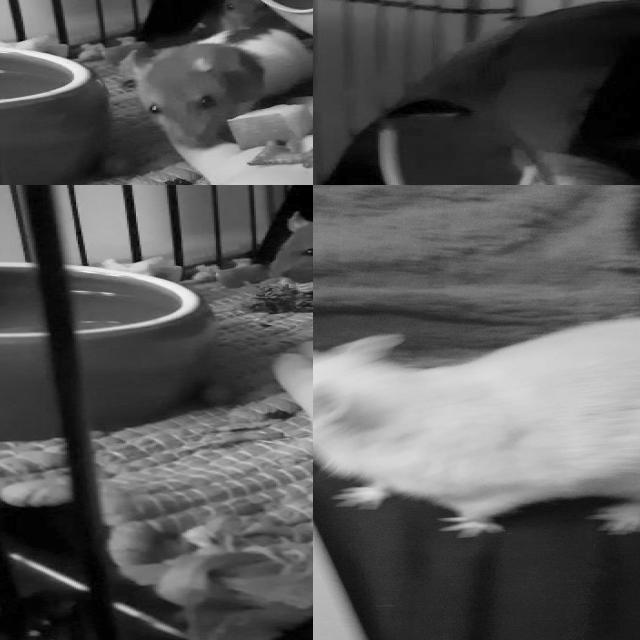rat: (313, 317, 640, 537), (121, 26, 313, 146), (270, 210, 313, 297), (201, 0, 272, 27)
